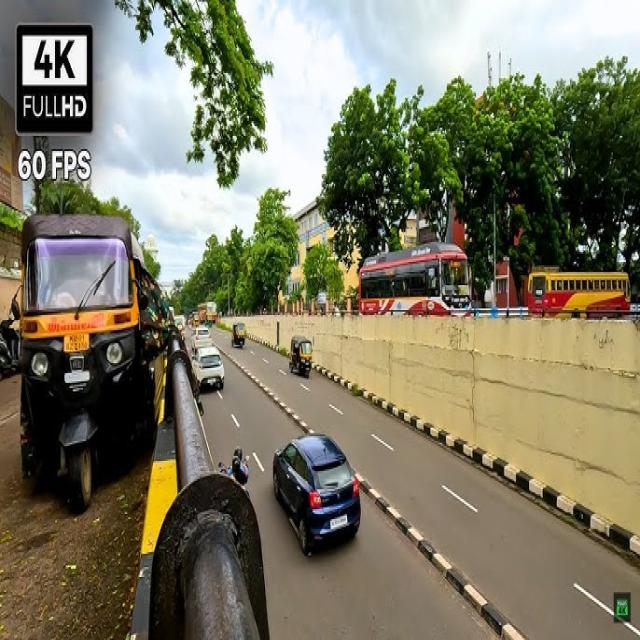plate: (62, 328, 90, 353), (328, 513, 352, 533), (205, 376, 217, 386)
